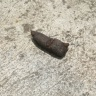Dog: (30, 30, 67, 57)
